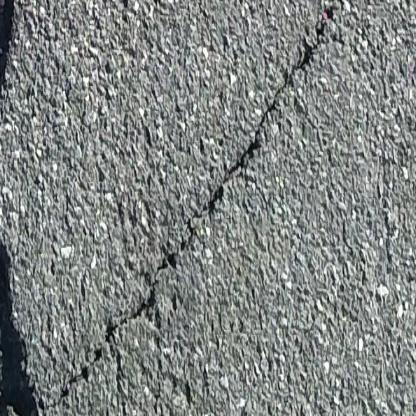Cracks: (0, 0, 353, 416), (0, 0, 20, 136)
